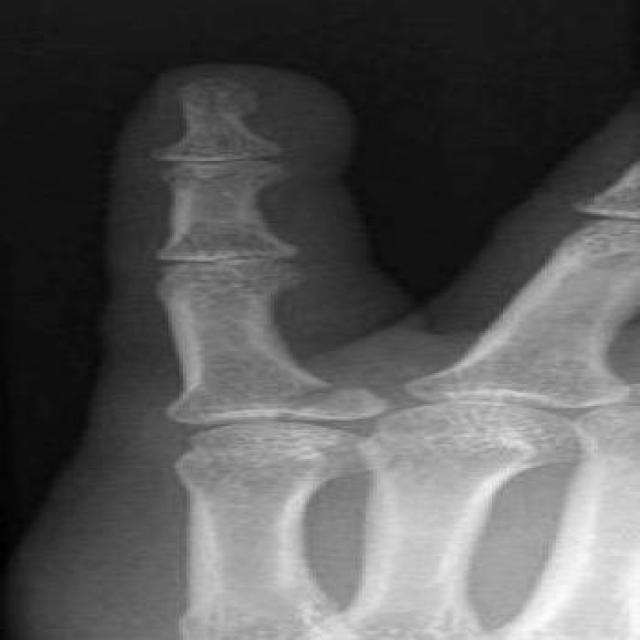Fracture: (258, 375, 422, 424)
